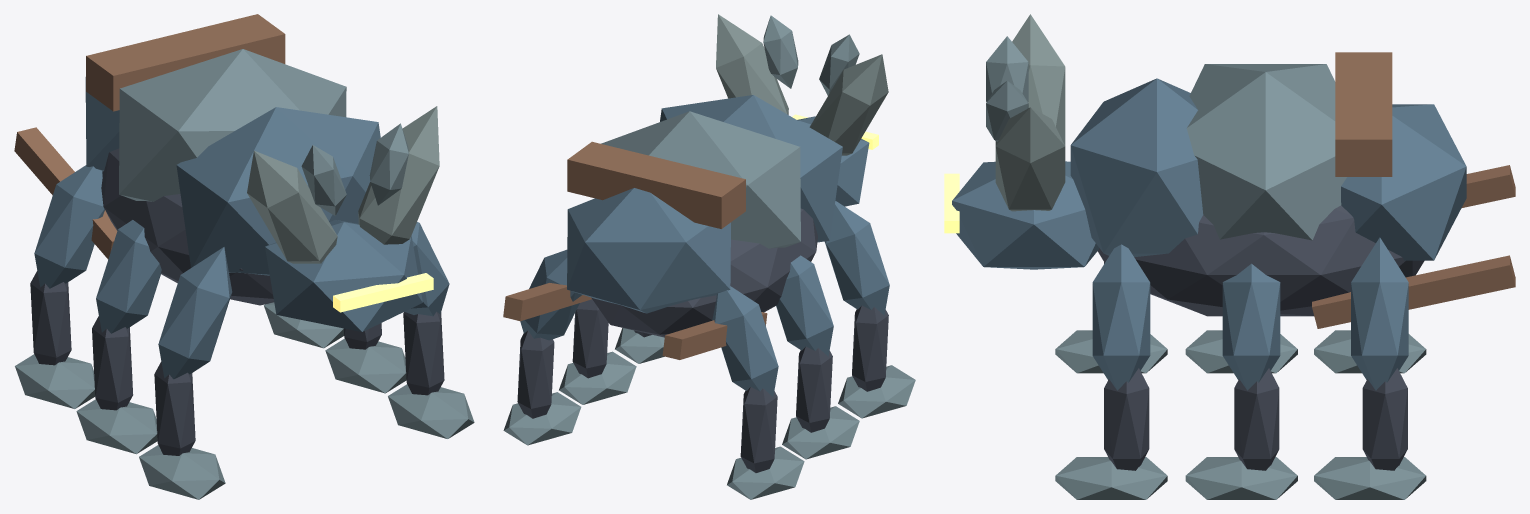
Rendered from vellik.glb.
The picture shows the model from 3 angles, left to right: view 1: azimuth 30°, elevation 25°; view 2: azimuth 150°, elevation 25°; view 3: azimuth 270°, elevation 25°; orthographic projection. The views are drawn at different scales.
Parts seen in each view (by area): view 1: Overlapping shell plate.001, Overlapping shell plate, Lowered shield head, Harness saddle, Vellik angled thigh, Swept crown tine, Barrel torso, Vellik angled thigh.004, Swept crown tine.001, Vellik angled thigh.002, Vellik crescent foot, Vellik crescent foot.001 (+15 smaller); view 2: Overlapping shell plate.002, Overlapping shell plate.001, Harness saddle, Barrel torso, Overlapping shell plate, Vellik angled thigh, Vellik angled thigh.004, Swept crown tine, Swept crown tine.001, Vellik angled thigh.002, Vellik slender shin.002, Vellik slender shin.004 (+15 smaller); view 3: Overlapping shell plate.001, Overlapping shell plate, Barrel torso, Overlapping shell plate.002, Lowered shield head, Harness saddle, Vellik angled thigh.001, Vellik angled thigh.005, Swept crown tine.001, Vellik angled thigh.003, Harness draught strap.001, Vellik slender shin.003 (+13 smaller).
Part boxes in pixels (x1=…): Overlapping shell plate.001: x1=119, y1=49, x2=346, y2=201; Overlapping shell plate: x1=176, y1=107, x2=380, y2=275; Lowered shield head: x1=265, y1=220, x2=422, y2=331; Harness saddle: x1=86, y1=14, x2=285, y2=111; Vellik angled thigh: x1=158, y1=247, x2=232, y2=379; Swept crown tine: x1=247, y1=150, x2=337, y2=263; Barrel torso: x1=101, y1=148, x2=273, y2=305; Vellik angled thigh.004: x1=34, y1=165, x2=104, y2=288; Swept crown tine.001: x1=358, y1=106, x2=439, y2=244; Vellik angled thigh.002: x1=96, y1=220, x2=161, y2=333; Vellik crescent foot: x1=139, y1=445, x2=225, y2=499; Vellik crescent foot.001: x1=388, y1=384, x2=474, y2=438; Overlapping shell plate.002: x1=567, y1=188, x2=730, y2=313; Overlapping shell plate.001: x1=601, y1=111, x2=800, y2=248; Harness saddle: x1=567, y1=141, x2=745, y2=228; Barrel torso: x1=591, y1=208, x2=817, y2=337; Overlapping shell plate: x1=660, y1=95, x2=842, y2=242; Vellik angled thigh: x1=824, y1=201, x2=889, y2=315; Vellik angled thigh.004: x1=712, y1=286, x2=778, y2=396; Swept crown tine: x1=809, y1=54, x2=888, y2=155; Swept crown tine.001: x1=716, y1=14, x2=788, y2=114; Vellik angled thigh.002: x1=776, y1=255, x2=833, y2=356; Vellik slender shin.002: x1=796, y1=346, x2=832, y2=432; Vellik slender shin.004: x1=740, y1=387, x2=777, y2=472; Overlapping shell plate.001: x1=1186, y1=64, x2=1346, y2=240; Overlapping shell plate: x1=1070, y1=78, x2=1203, y2=257; Barrel torso: x1=1097, y1=205, x2=1424, y2=316; Overlapping shell plate.002: x1=1341, y1=104, x2=1466, y2=260; Lowered shield head: x1=952, y1=161, x2=1098, y2=269; Harness saddle: x1=1335, y1=52, x2=1392, y2=176; Vellik angled thigh.001: x1=1092, y1=244, x2=1150, y2=390; Vellik angled thigh.005: x1=1351, y1=237, x2=1408, y2=390; Swept crown tine.001: x1=995, y1=107, x2=1065, y2=211; Vellik angled thigh.003: x1=1222, y1=263, x2=1280, y2=390; Harness draught strap.001: x1=1312, y1=255, x2=1515, y2=328; Vellik slender shin.003: x1=1234, y1=368, x2=1279, y2=470.
Bounding box in the file's own units: 2.13 × 2.32 × 3.2.
